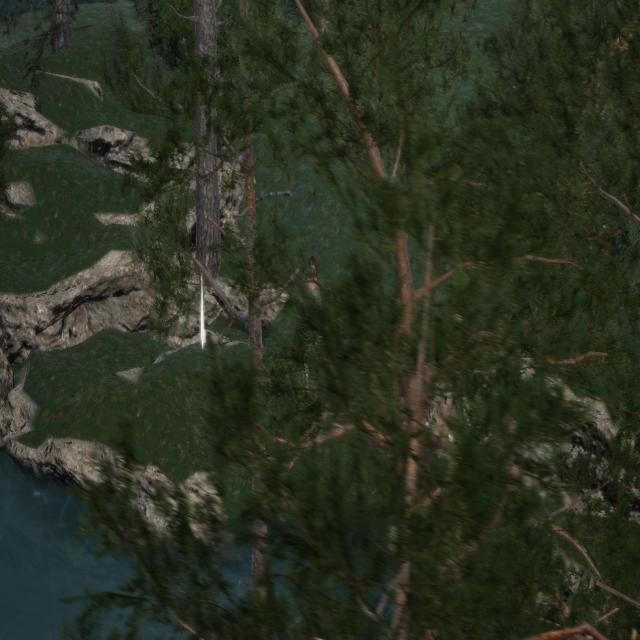Human: (293, 252, 334, 314)
